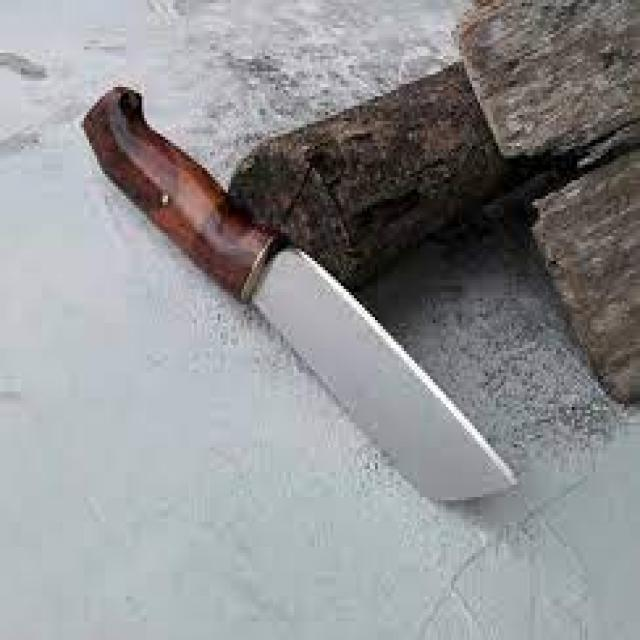weapon: (45, 51, 556, 554)
